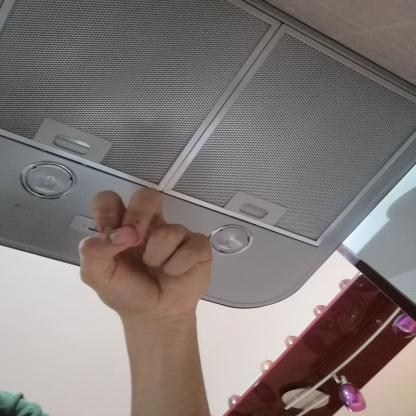QAAF: (62, 181, 228, 331)
